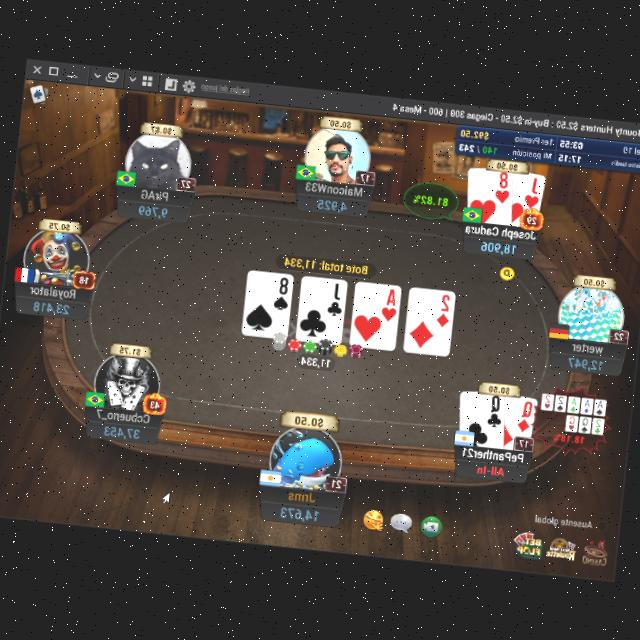2d: (432, 290, 452, 330)
8h: (492, 170, 514, 207)
8s: (270, 273, 292, 311)
Ah: (378, 285, 399, 323)
Jc: (324, 279, 346, 318)
Jh: (522, 174, 542, 211)
Qc: (484, 392, 506, 429)
Qd: (513, 398, 535, 434)
all_in_symbol: (475, 461, 506, 476)
bet_text: (299, 353, 332, 369)
dealer: (497, 264, 517, 282), (84, 392, 104, 406)
pot_text: (282, 253, 368, 274)
stack_text: (278, 502, 322, 524), (566, 353, 604, 373), (30, 297, 72, 315), (479, 237, 518, 256), (103, 422, 142, 440), (314, 196, 348, 213), (137, 202, 168, 220)
